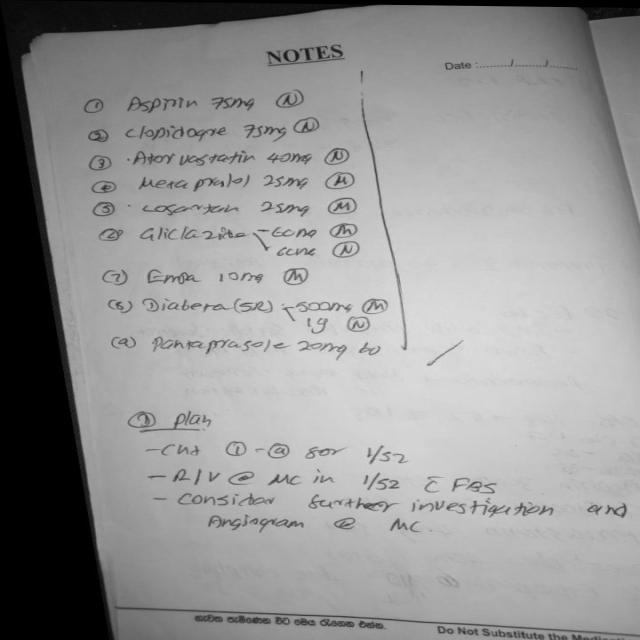Prescription: (127, 291, 383, 333), (126, 219, 354, 259), (134, 333, 372, 359), (110, 115, 321, 143), (125, 168, 348, 192), (133, 194, 351, 216), (115, 90, 302, 114), (125, 146, 348, 166), (133, 263, 303, 287)
